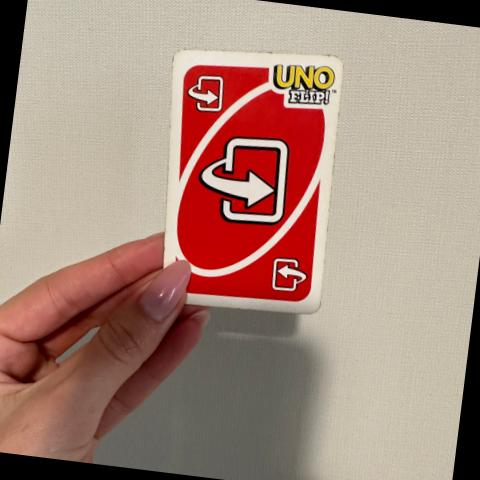lredflip-20: (174, 58, 237, 132)
